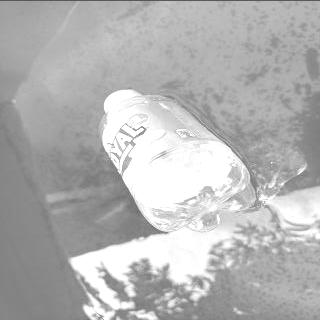bottle: (95, 86, 262, 232)
